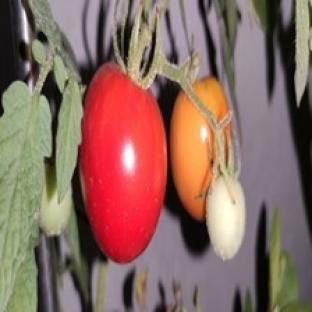Tomato: (80, 63, 167, 263), (170, 91, 214, 221), (207, 176, 245, 260), (39, 165, 73, 235)
